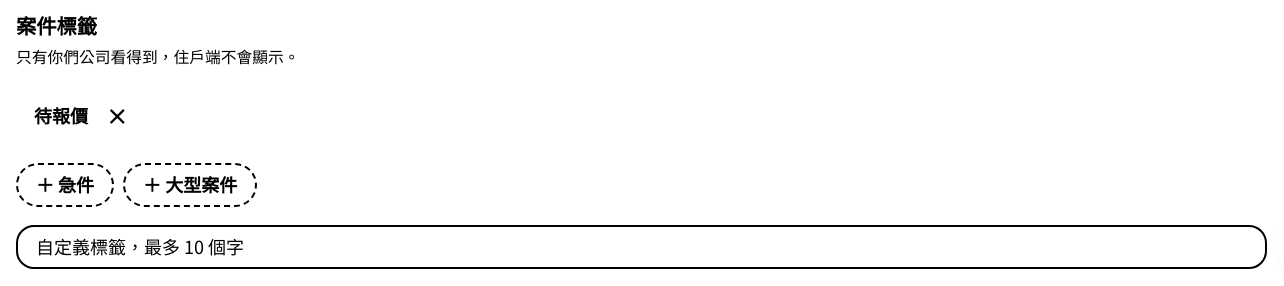
Scenario: CaseTagEditor › 貼上常用標籤時送出整份清單，並顯示後端存下來的結果
What coordinates should you click on to do the following:
click the button "＋ 急件"
I would click on:
 (65, 184)
Its box is top-left (16, 162), bottom-right (114, 206).
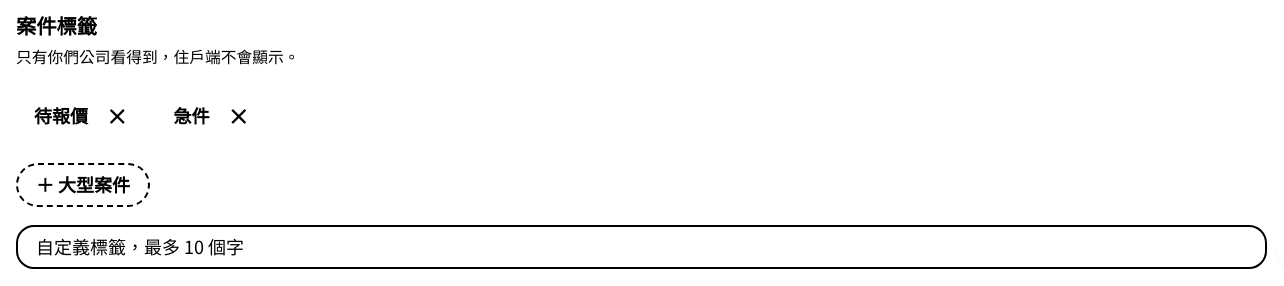
Now the button named "移除標籤「急件」" is shown, box top-left (214, 90), bottom-right (264, 140)
Now the button "＋ 急件" is gone
